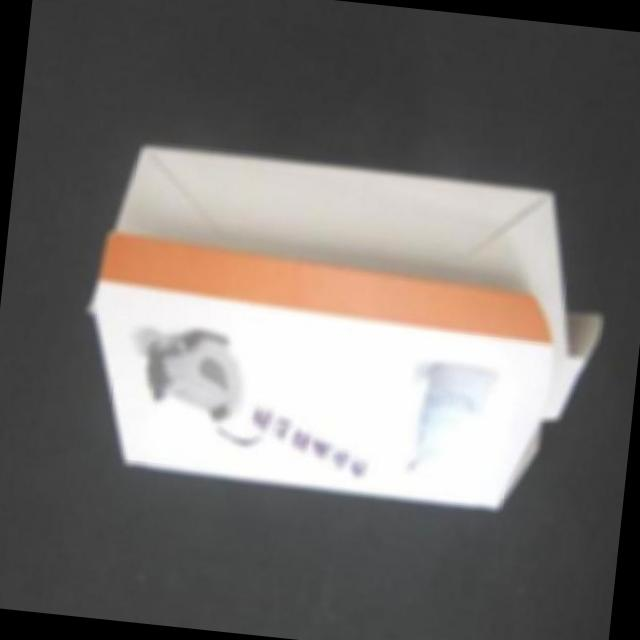box: (70, 123, 590, 522)
